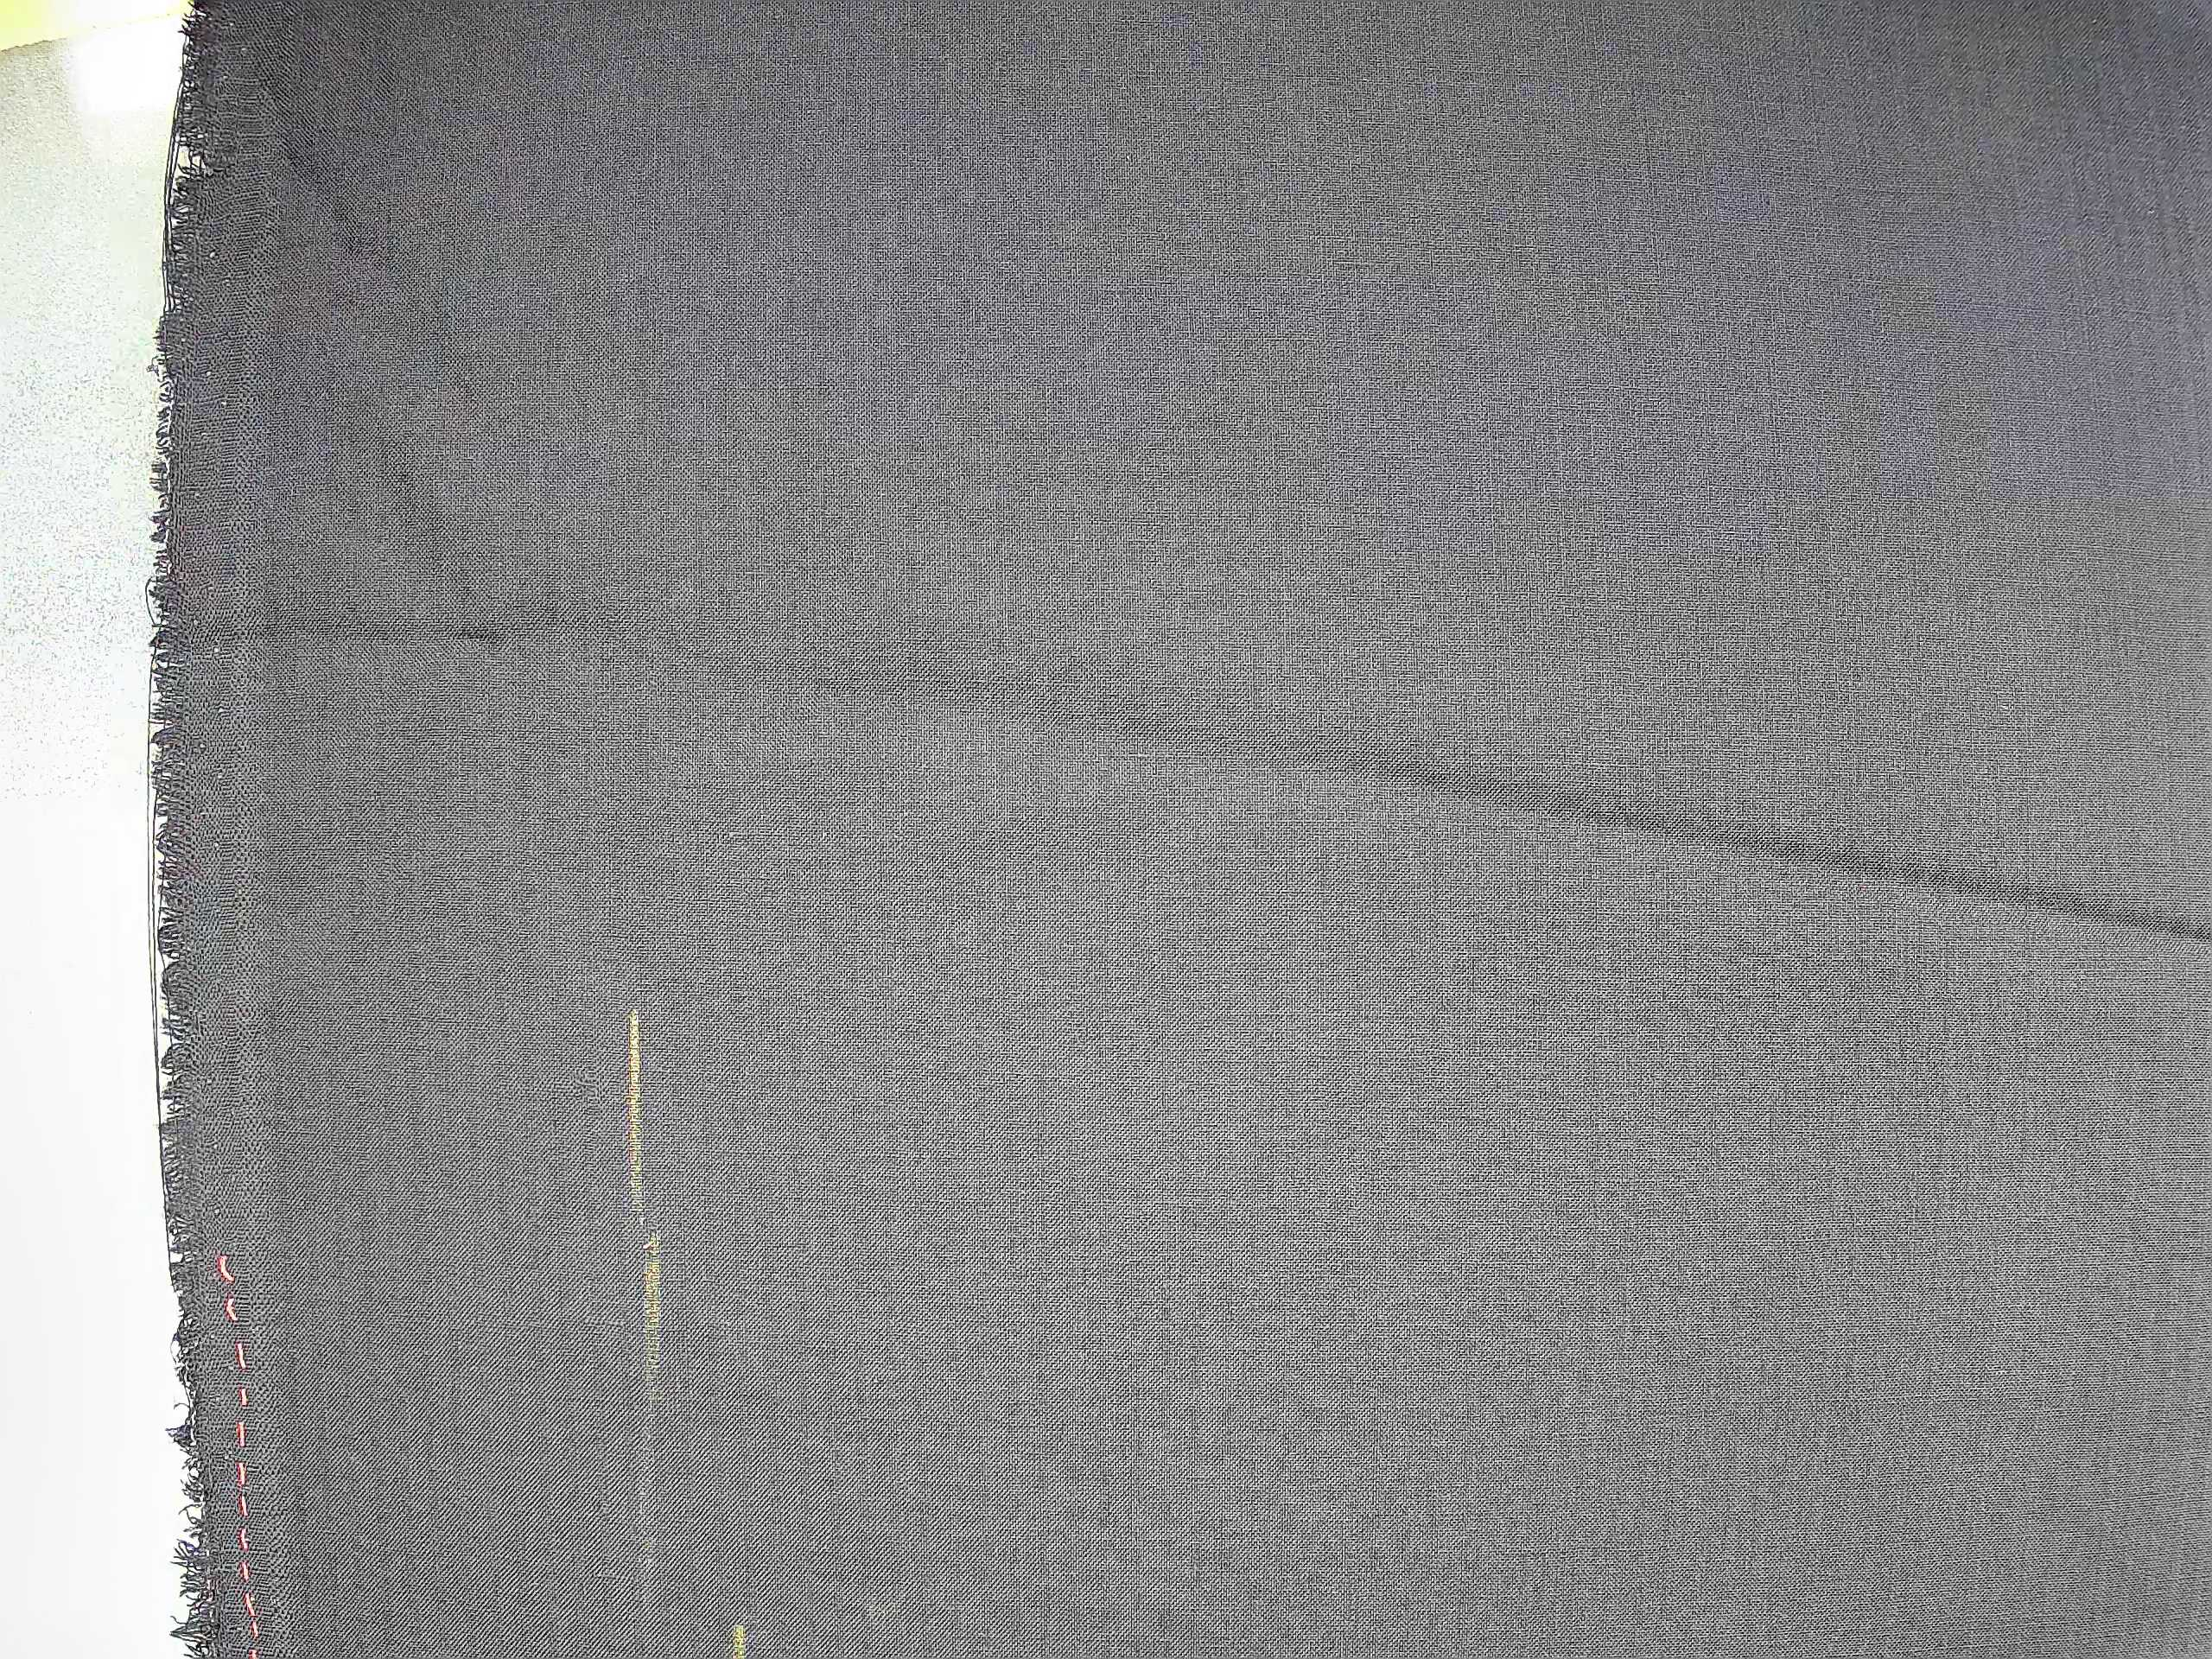knots: (617, 1194, 718, 1319)
